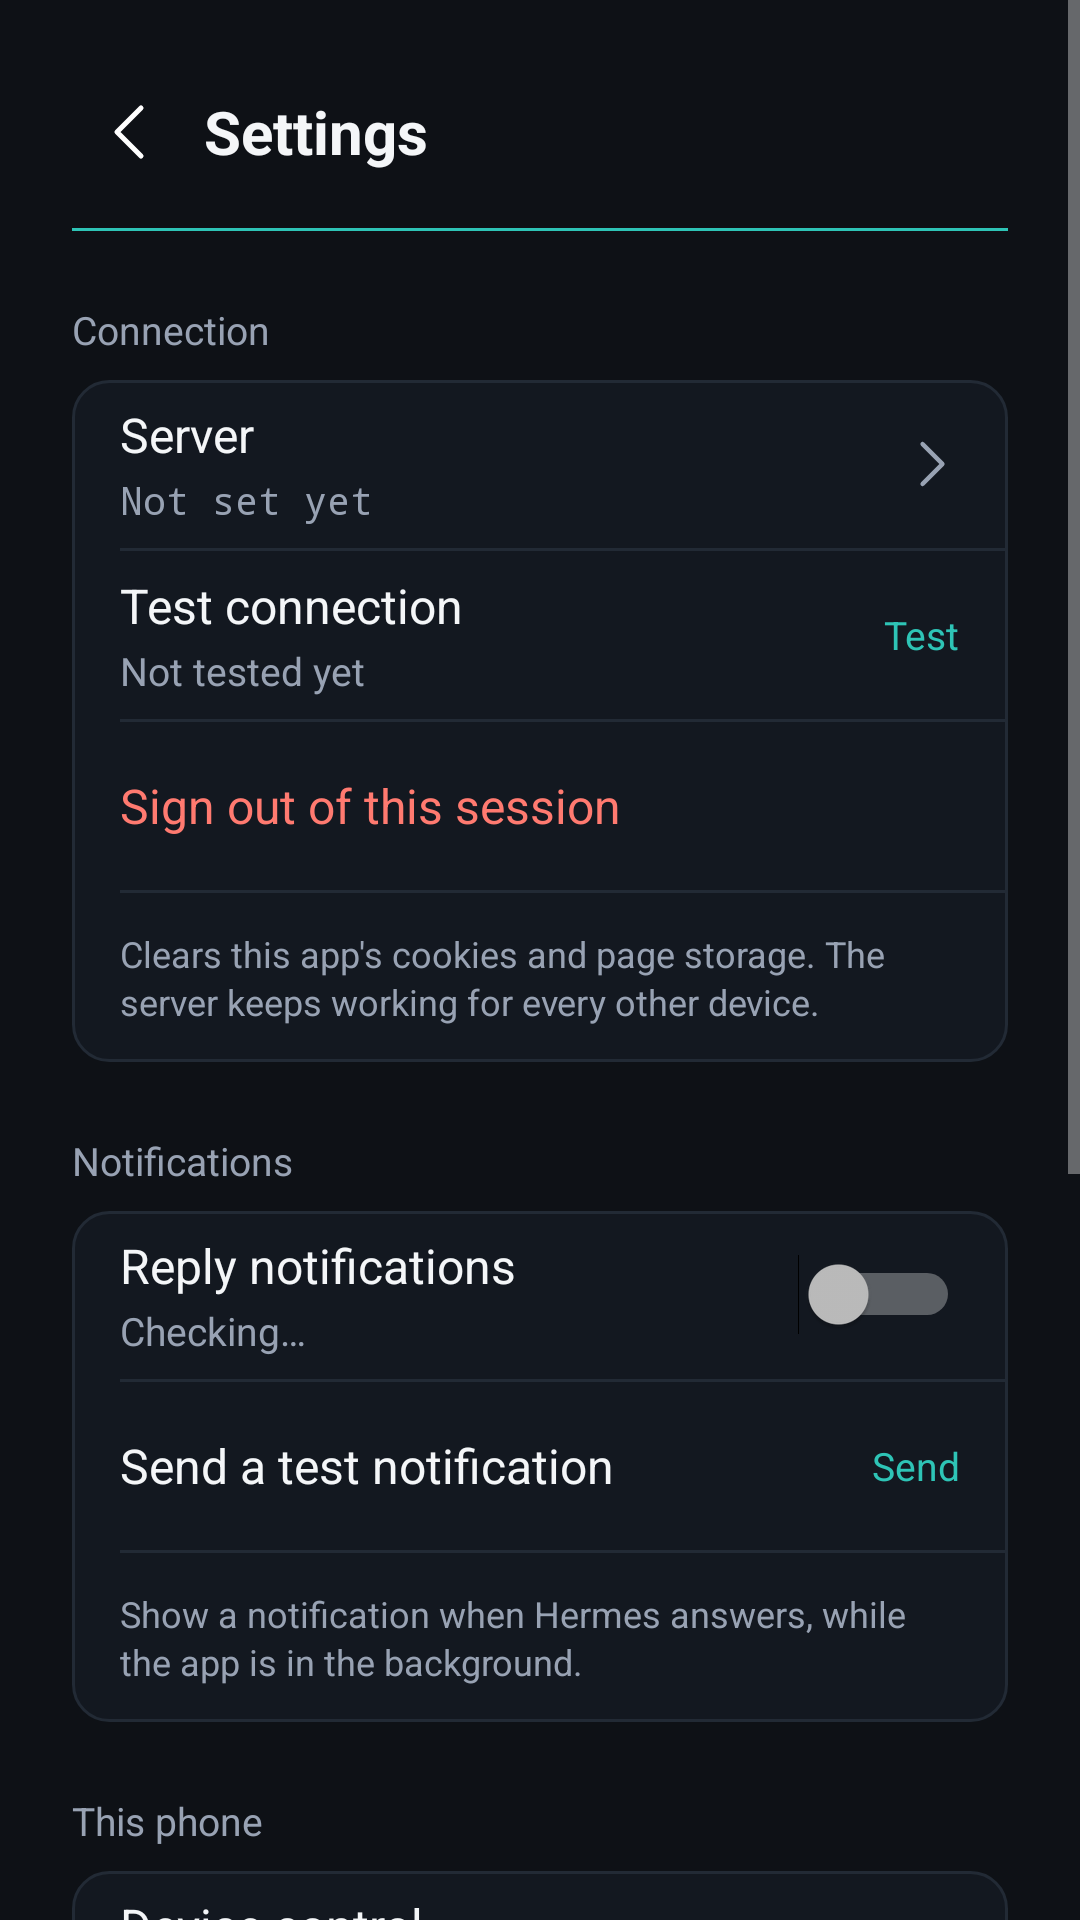

Icon bounding boxes for this 1080w x 1920h phone screenshot, format (x1, y1, x2, y2):
Back: (114, 105, 144, 159)
